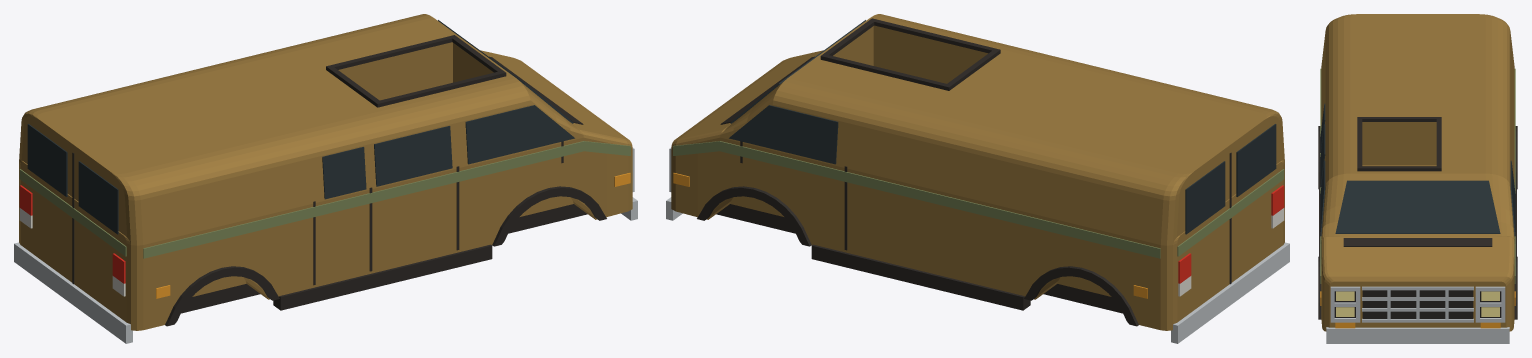
The model's file is base_van.glb.
3 views of the same model, side by side, from view 1: azimuth 30°, elevation 25°; view 2: azimuth 150°, elevation 25°; view 3: azimuth 270°, elevation 25° (orthographic). The views are drawn at different scales.
Parts seen in each view (by area): view 1: base_van; view 2: base_van; view 3: base_van.
Boxes of the visible parts, x1,y1,x2,y2 form: base_van: (14,14,637,343); base_van: (666,14,1289,343); base_van: (1318,14,1517,343).
Bounding box in the file's own units: 5.85 × 1.77 × 2.42.
